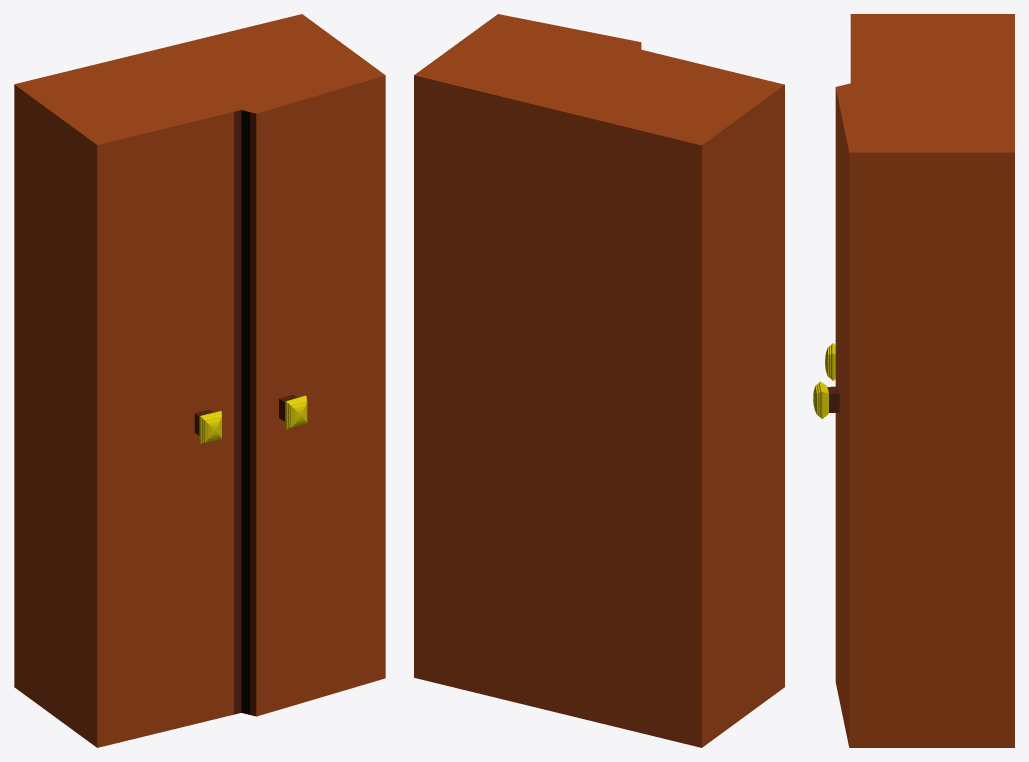
File: armoire.fbx
3 renders of one model, left to right at view 1: azimuth 30°, elevation 25°; view 2: azimuth 150°, elevation 25°; view 3: azimuth 270°, elevation 25°, orthographic.
Visible parts, largest first — view 1: Cube; view 2: Cube; view 3: Cube.
Boxes of the visible parts, box(x1,y1,x2,y2) form: Cube: box(14, 14, 385, 747); Cube: box(414, 14, 784, 747); Cube: box(813, 14, 1014, 747).
Size of the model in its own units: 400 by 800 by 246.
